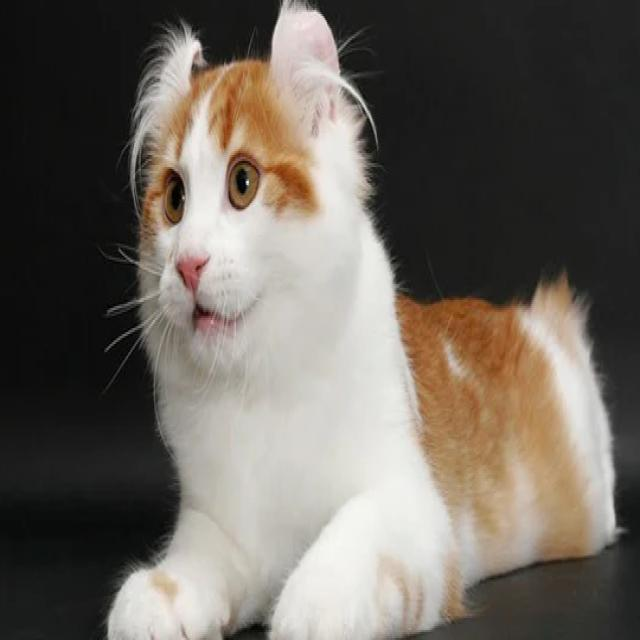American Curl: (101, 0, 621, 640)
